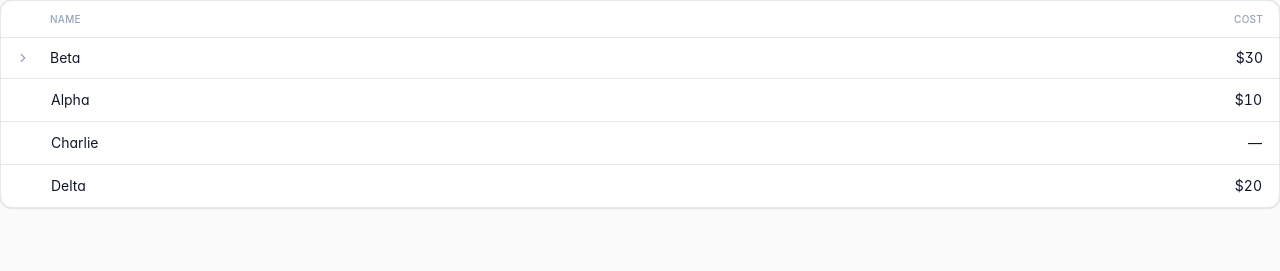
Test: SortableTable › is expandable per-row: a row whose renderDetail returns null gets NO chevron and IS link-wrapped by rowHref, while a row with detail content stays expandable
Click the button named "Expand row": [23, 58] box [13,48,33,68]
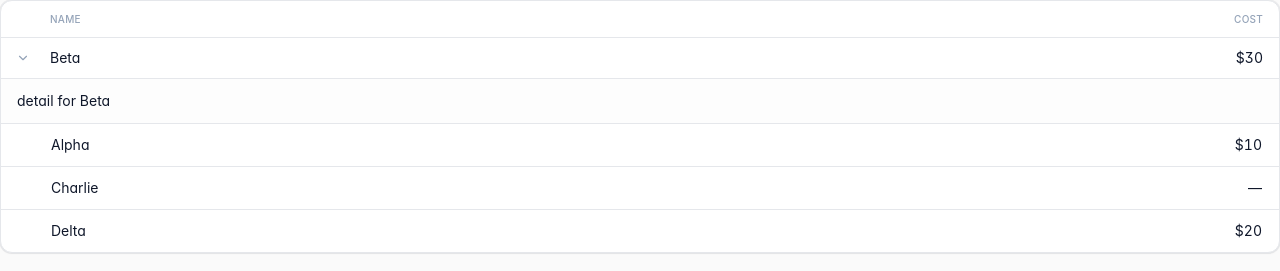
Now the text "detail for Beta" is shown, box [17,92,110,109]
